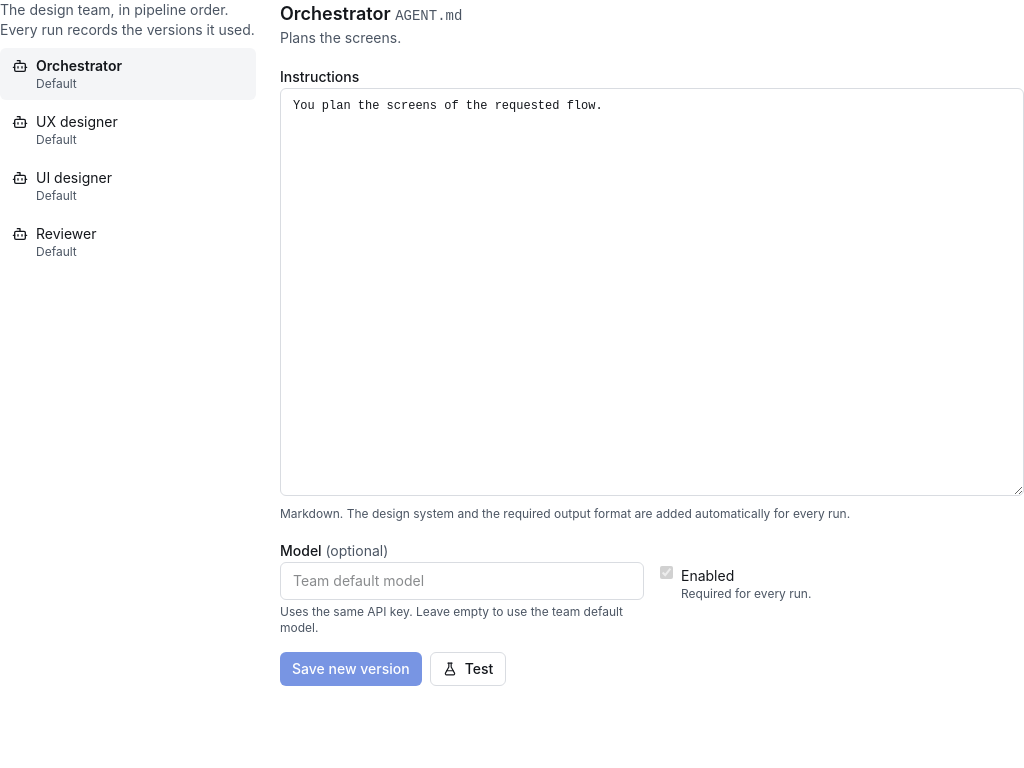
Test case: Test this agent › runs the agent with the unsaved instructions and shows the code, tokens and time
Click the button "UI designer Default" at {"x": 128, "y": 186}, box [0,160,256,212]
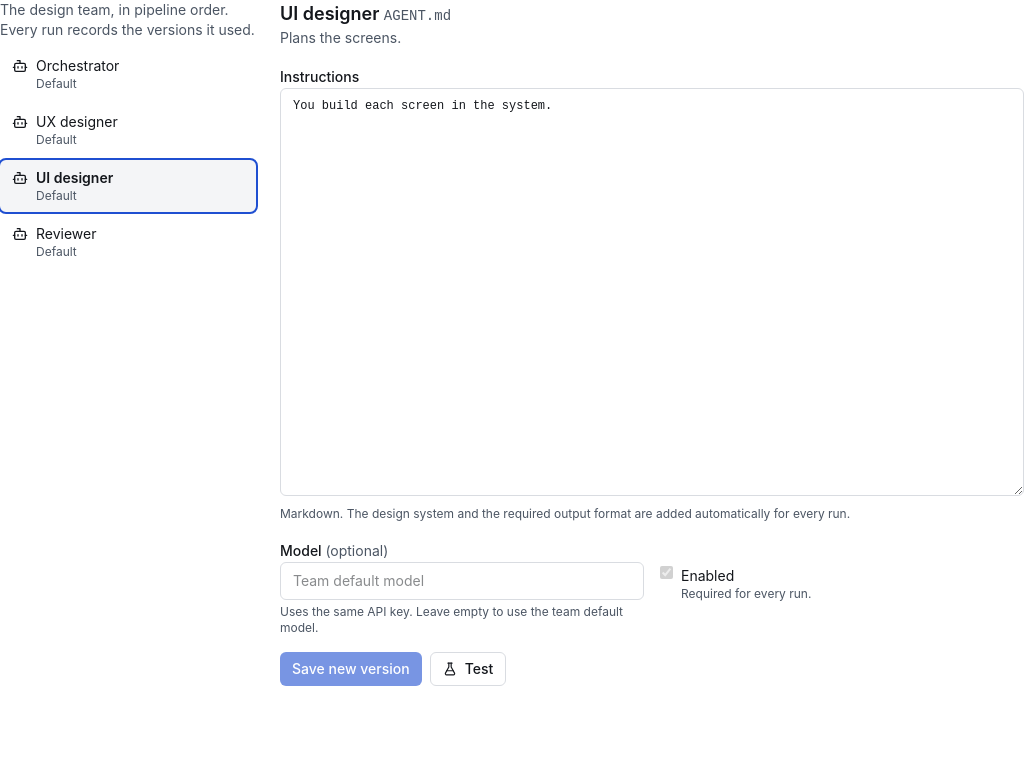
Type " Use large touch targets." into the text box labelled "Instructions" at {"x": 652, "y": 292}, box [280,88,1023,496]
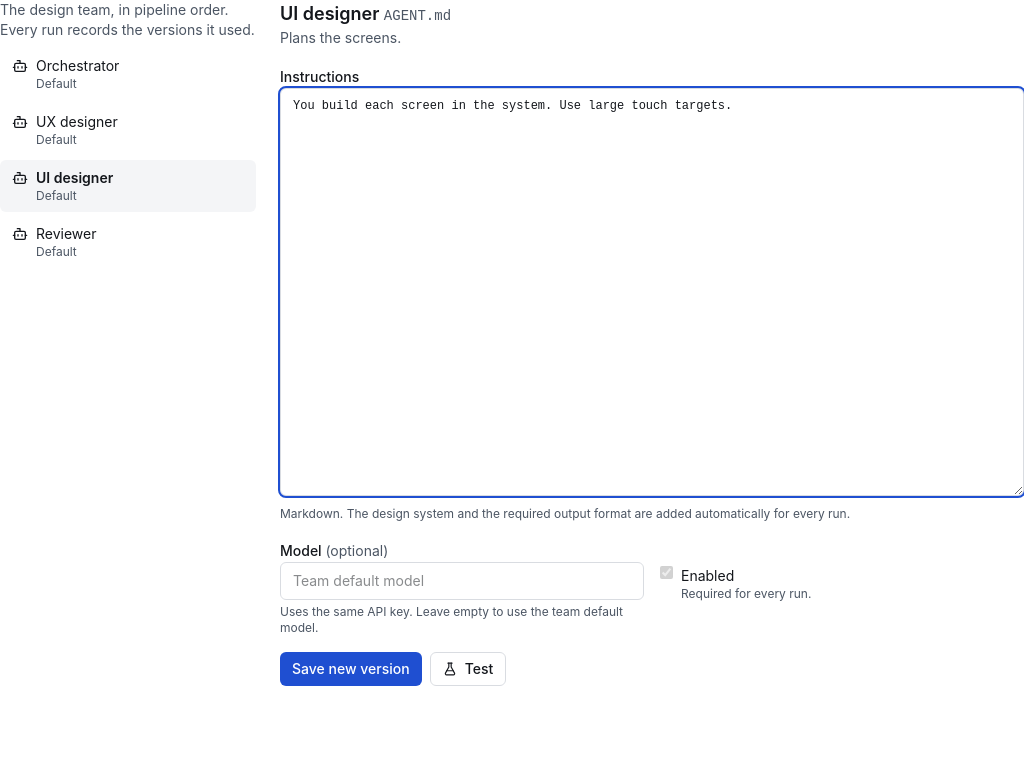
Click the button "Test" at {"x": 468, "y": 669}, box [430,652,506,686]
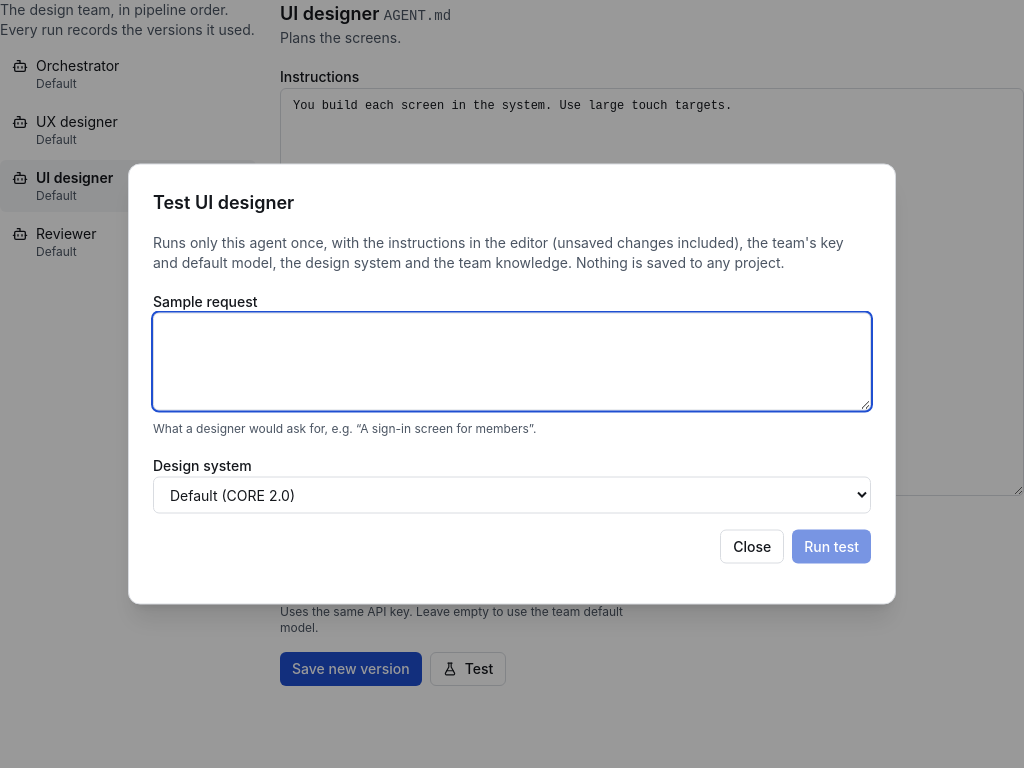
Check: the button "Run test" is disabled, box [792,530,871,564]
Type "A sign-in screen" into the text box labelled "Sample request" at {"x": 512, "y": 362}, box [153,312,871,410]
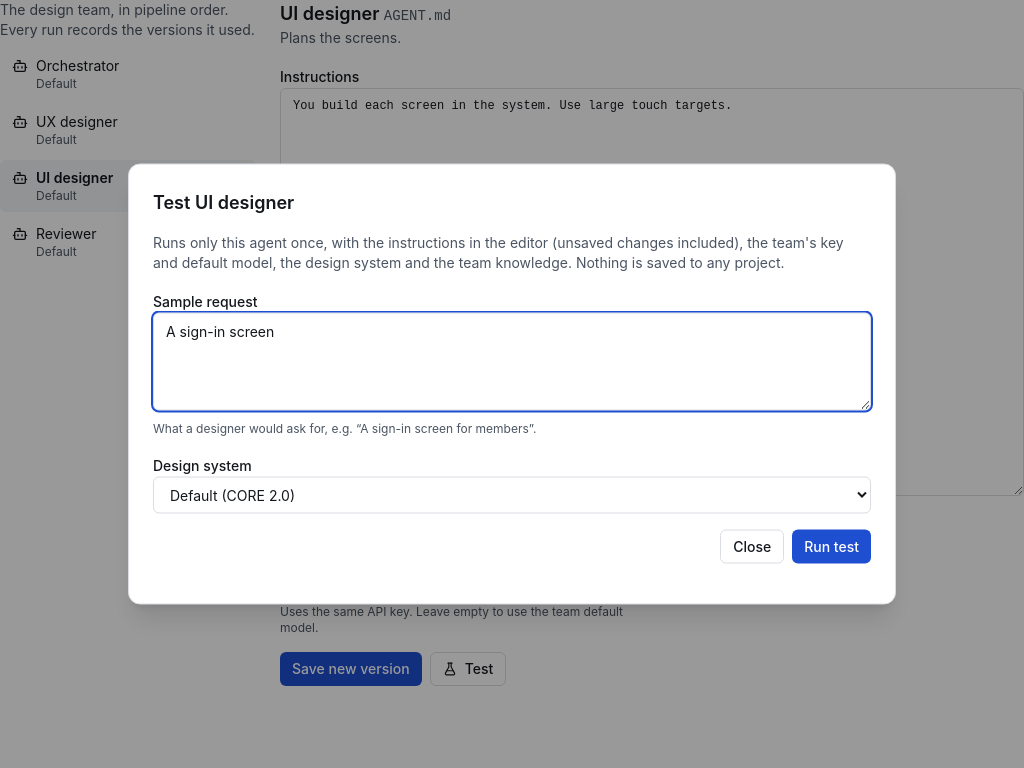
Select "Minimal" in the dropdown labelled "Design system" at {"x": 512, "y": 495}, box [153,476,871,514]
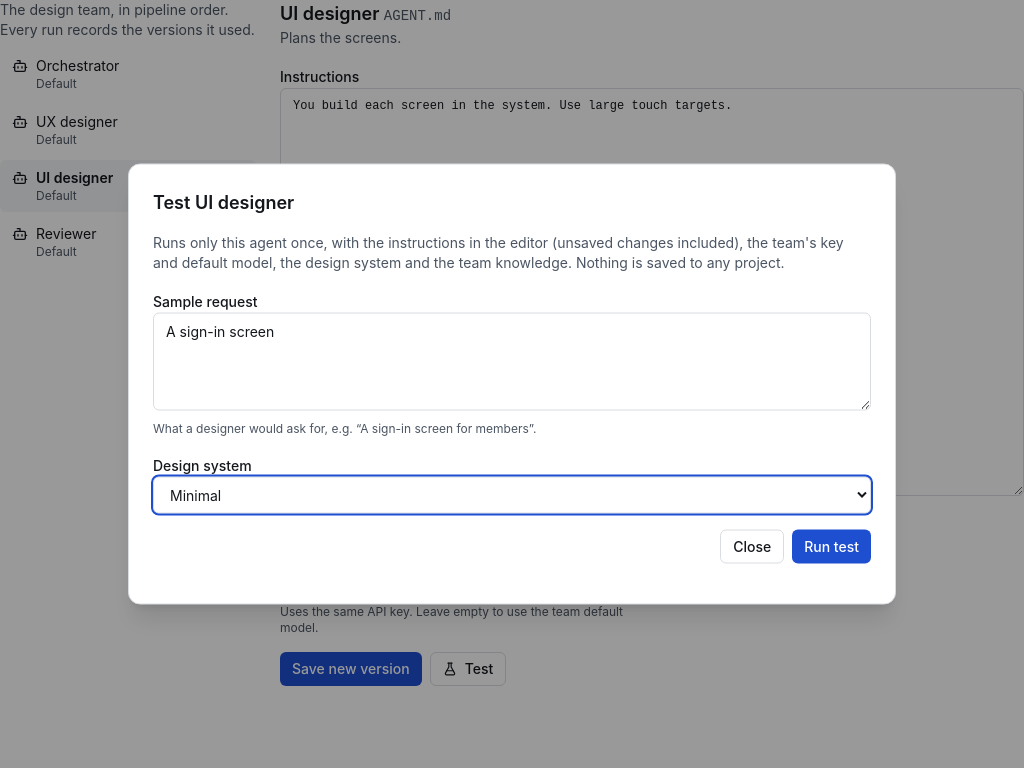
Click the button "Run test" at {"x": 832, "y": 546}, box [792,530,871,564]
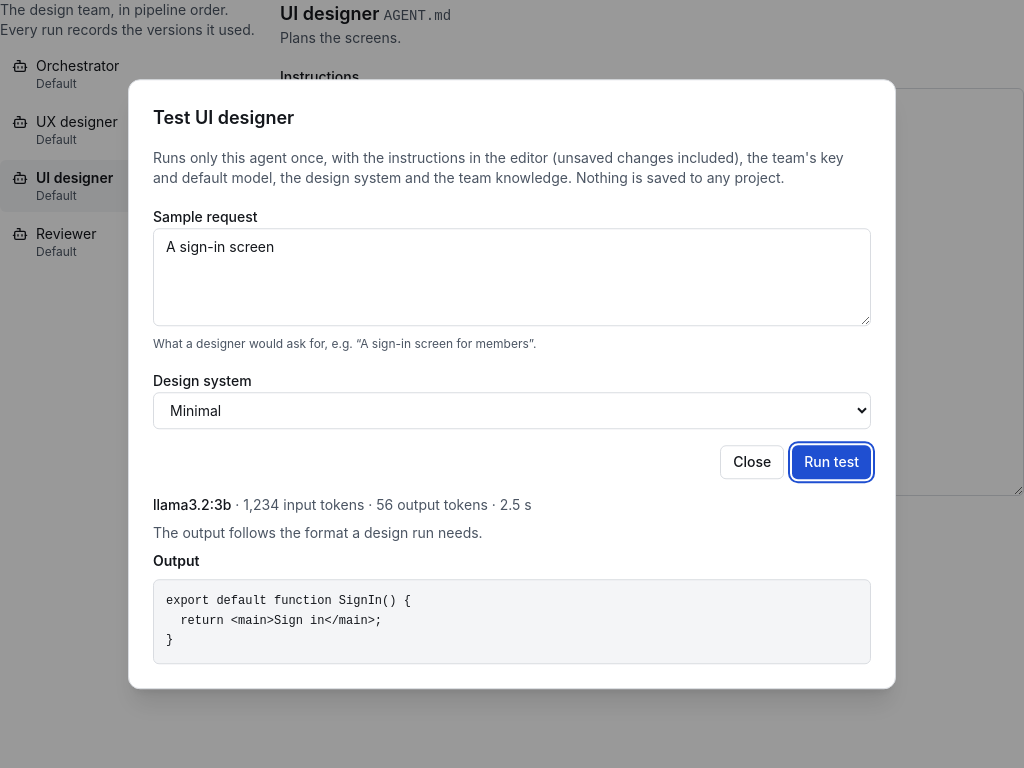
Check: the text "llama3.2:3b" is shown, box [153,496,231,513]
Check: the element named "Test result" shows "1,234 input tokens · 56 output tokens · 2.5 s", box [153,495,871,664]
Check: the element named "Test result" shows "The output follows the format a design run needs.", box [153,524,483,541]
